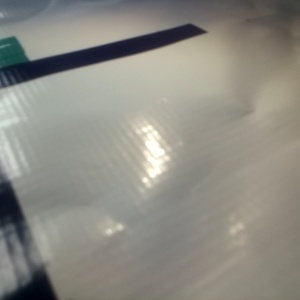top_right: (97, 58, 190, 111)
